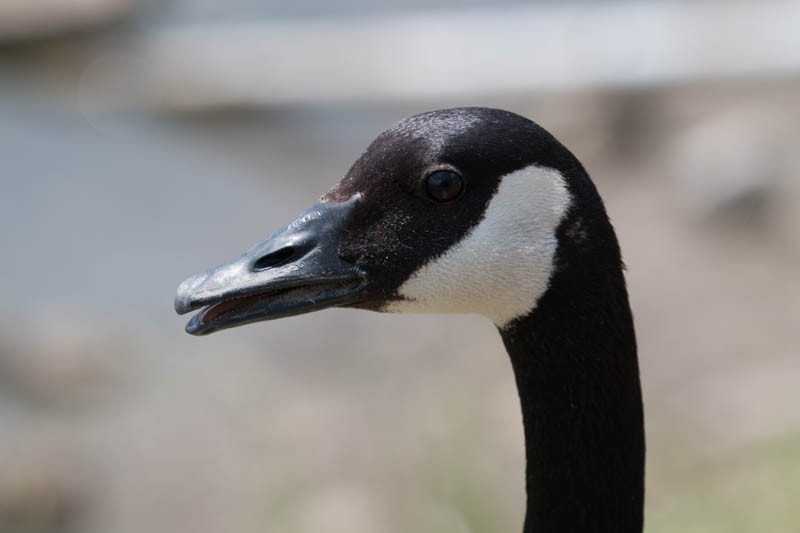goose-head: (171, 105, 622, 337)
